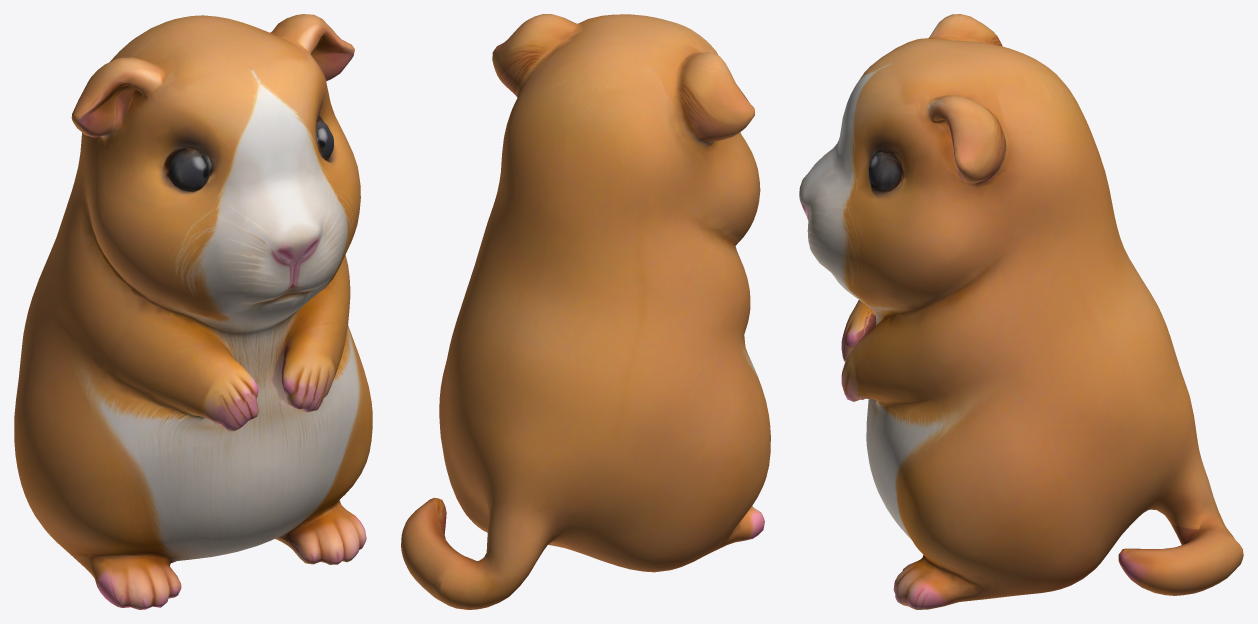
Rendered from cuy.glb.
3 renders of one model, left to right at view 1: azimuth 30°, elevation 25°; view 2: azimuth 150°, elevation 25°; view 3: azimuth 270°, elevation 25°, orthographic. The views are drawn at different scales.
Visible parts, largest first — view 1: White and red guinea pig toy_0; view 2: White and red guinea pig toy_0; view 3: White and red guinea pig toy_0.
Part boxes in pixels (bbox=[...]): White and red guinea pig toy_0: bbox=[14, 14, 372, 609]; White and red guinea pig toy_0: bbox=[401, 14, 770, 609]; White and red guinea pig toy_0: bbox=[799, 14, 1243, 609].
Size of the model in its own units: 1.26 by 2 by 1.6.
1 material, 1 textured.
